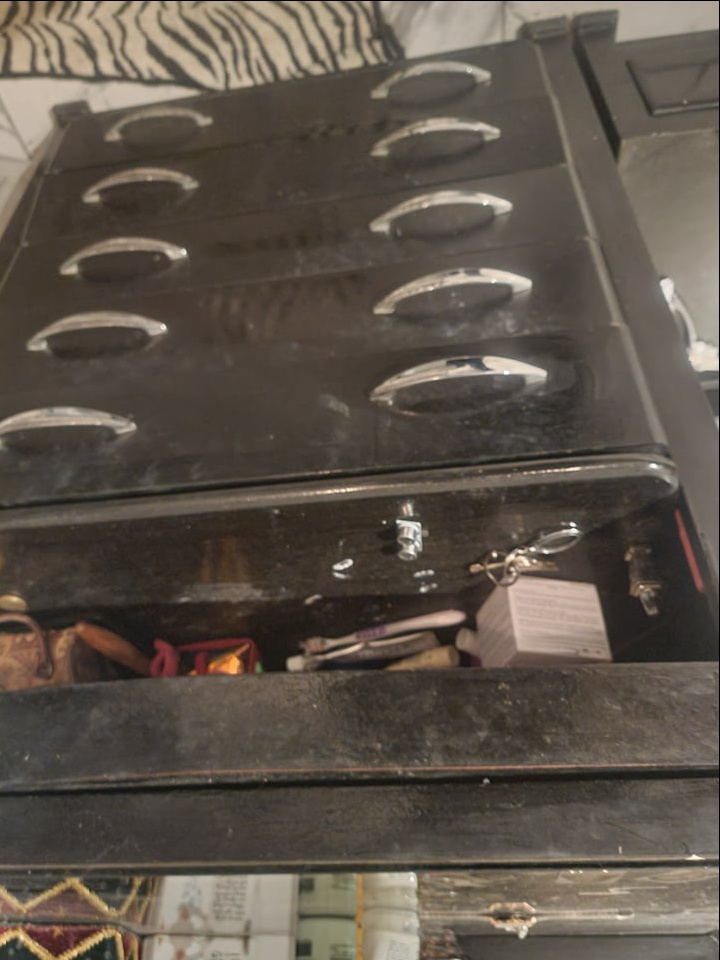SENSOR: (395, 517, 426, 562)
